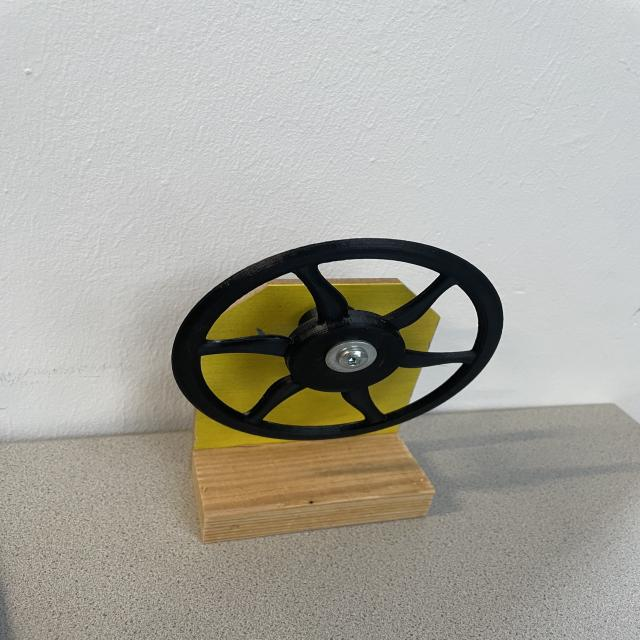Wheel Handle Valve Threaded: (170, 236, 504, 441)
